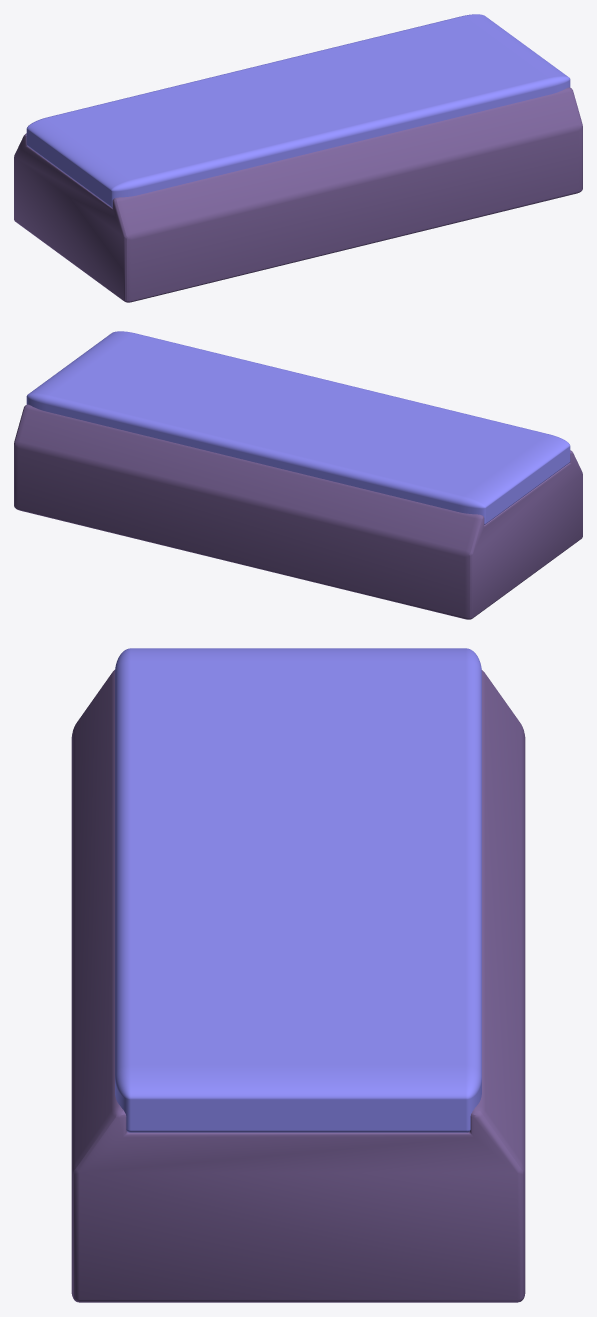
3 views of the same model, one above another, from view 1: azimuth 30°, elevation 25°; view 2: azimuth 150°, elevation 25°; view 3: azimuth 270°, elevation 25° (orthographic). The views are drawn at different scales.
Visible parts, largest first — view 1: Cube.013, Plane.017; view 2: Cube.013, Plane.017; view 3: Plane.017, Cube.013.
Part boxes in pixels (box(x1,y1,x2,y2)): Cube.013: box(14, 87, 582, 302); Plane.017: box(26, 14, 570, 207); Cube.013: box(14, 404, 582, 619); Plane.017: box(26, 331, 570, 524); Plane.017: box(115, 648, 481, 1132); Cube.013: box(71, 670, 525, 1302).
Bounding box in the file's own units: 311 × 70.78 × 133.
